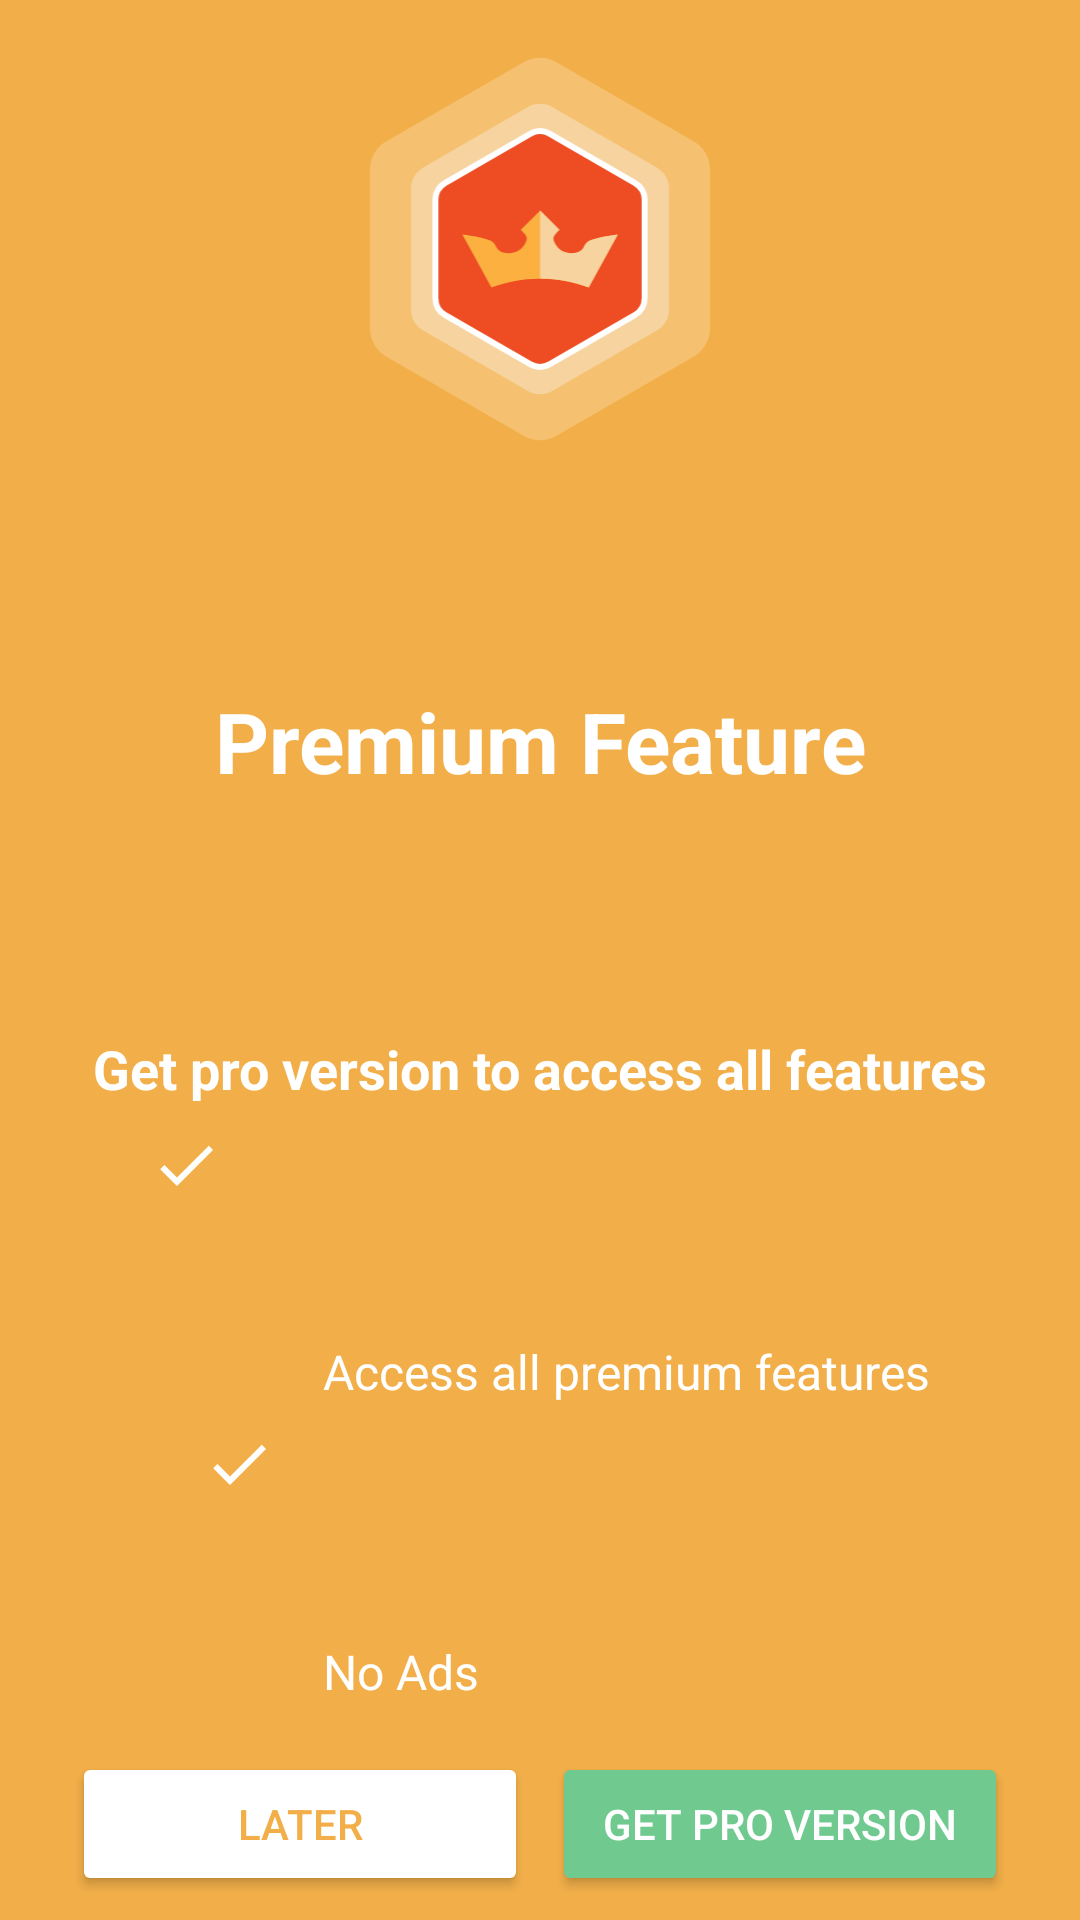

Named icons in this screenshot (1080w x 1920h) and their bounding boxes, (x1, y1, x2, y2):
done: (160, 1146, 213, 1186), (213, 1445, 266, 1485)
